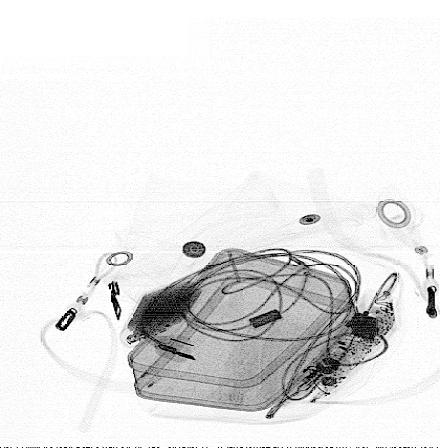Powerbank: (118, 278, 207, 348)
